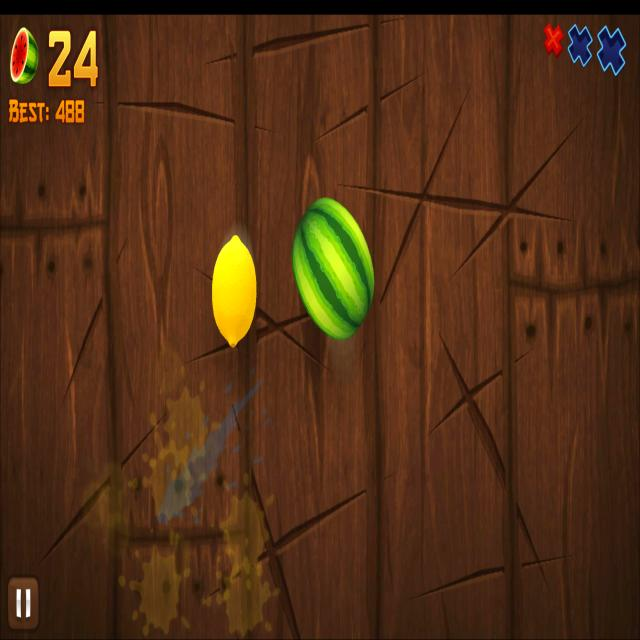fruit: (291, 196, 374, 342), (211, 233, 258, 348)
